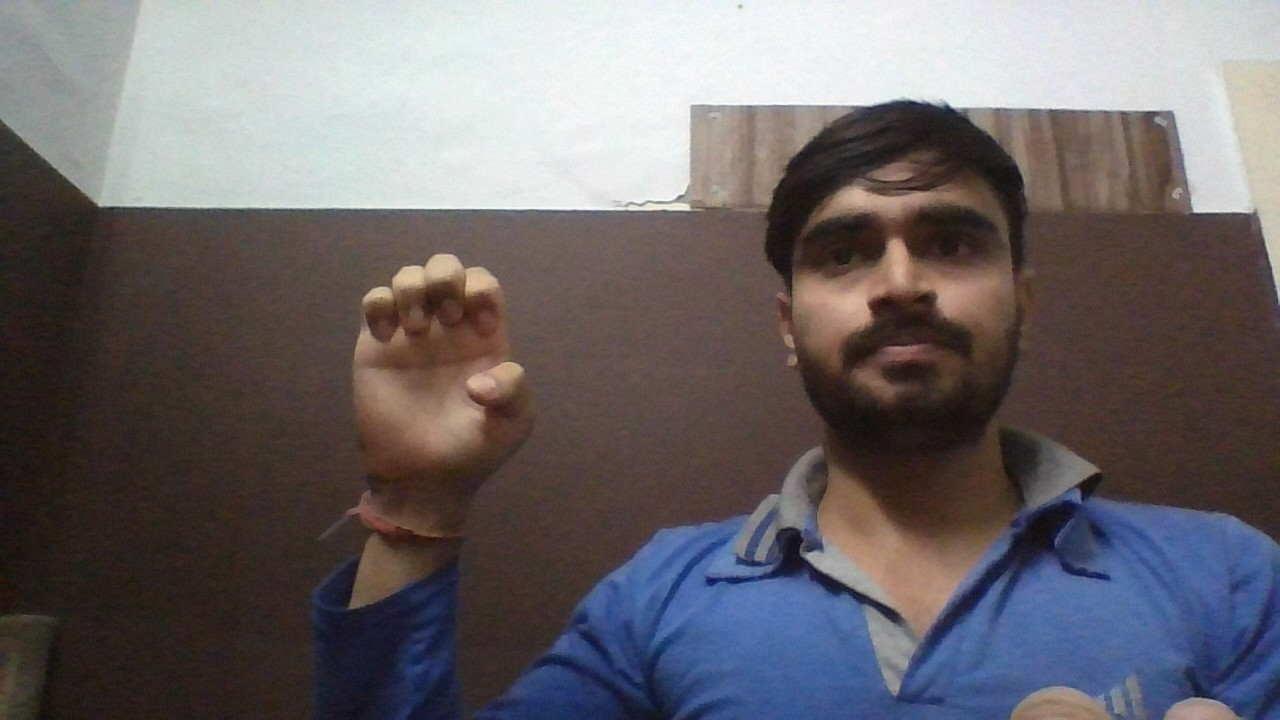E: (346, 250, 555, 490)
